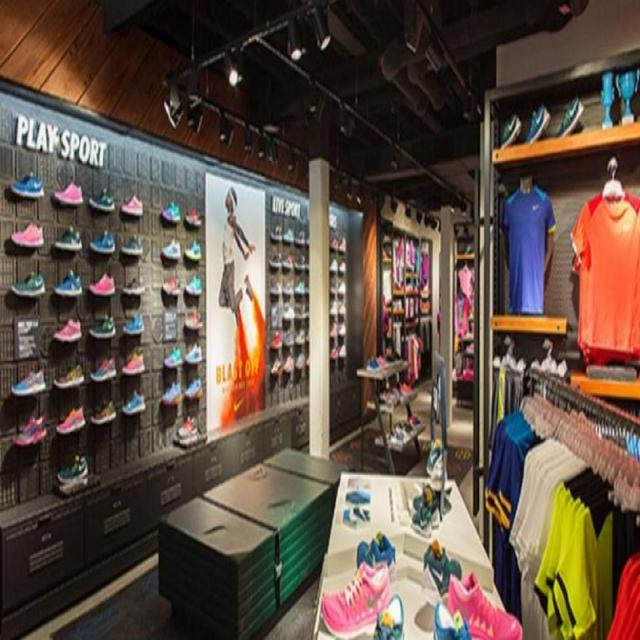nike: (364, 578, 391, 614), (230, 392, 249, 418), (530, 197, 540, 214)
